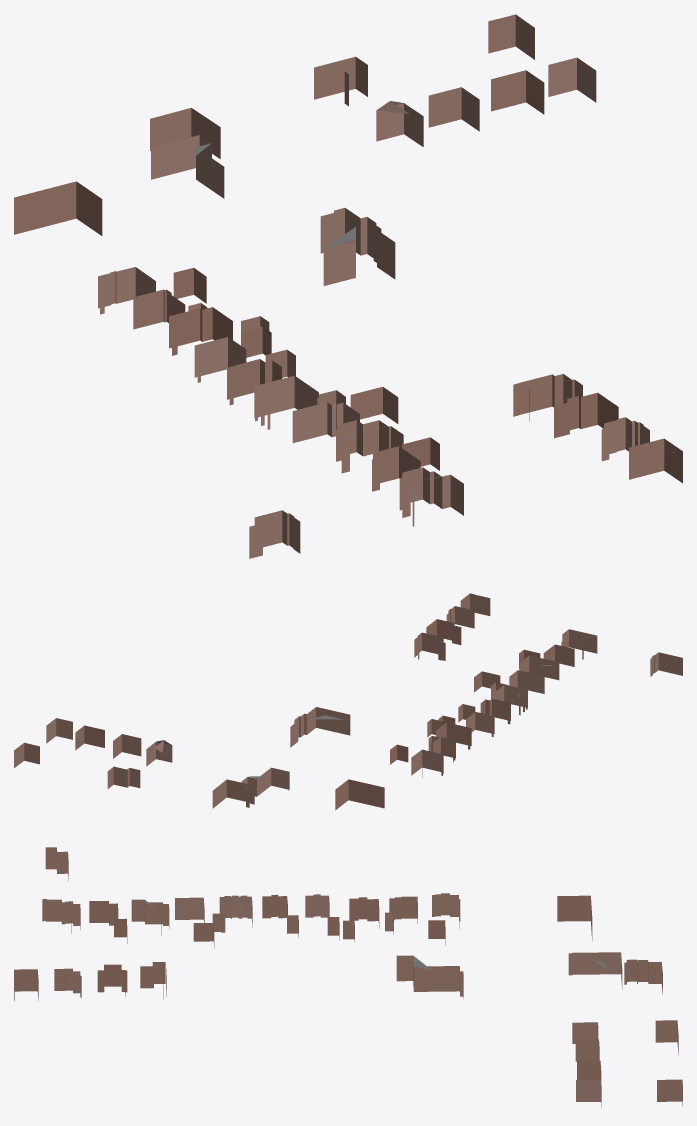
The model's file is c_1642_17822_buildings_residential.glb.
3 views of the same model, one above another, from view 1: azimuth 30°, elevation 25°; view 2: azimuth 150°, elevation 25°; view 3: azimuth 270°, elevation 25° (orthographic). The views are drawn at different scales.
Parts seen in each view (by area): view 1: geometry_0; view 2: geometry_0; view 3: geometry_0.
Boxes of the visible parts, <box> form: geometry_0: <box>14,14,682,558</box>; geometry_0: <box>14,593,682,810</box>; geometry_0: <box>14,847,682,1107</box>.
Size of the model in its own units: 224 by 11.08 by 262.
